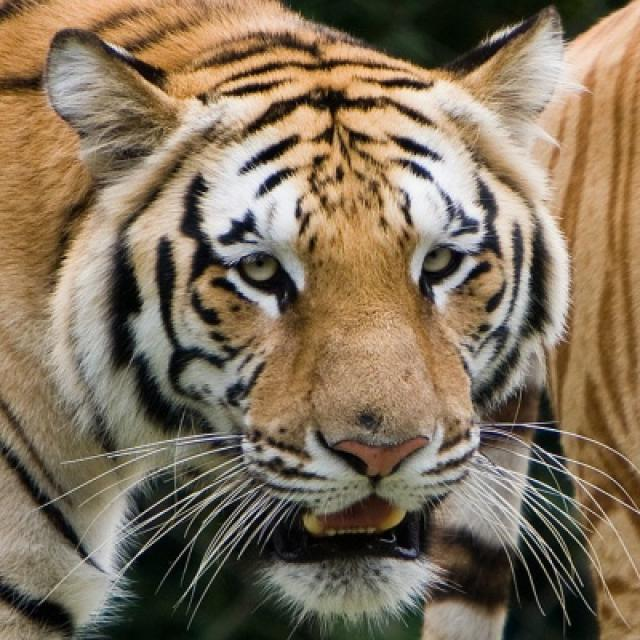Tiger: (3, 0, 577, 638), (537, 8, 638, 628)
